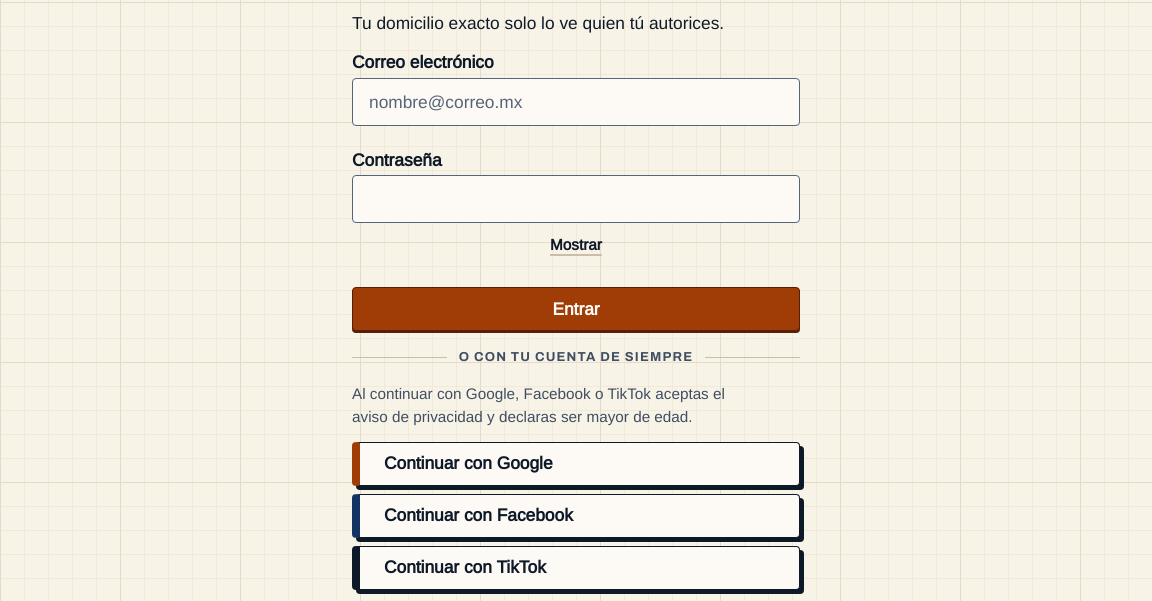
LoginPage › pide el correo si se envía vacío
(page scrolled)
What coordinates should you click on to do the following:
click the button "Entrar"
I would click on:
 (576, 309)
Its box is [352,287,800,331].
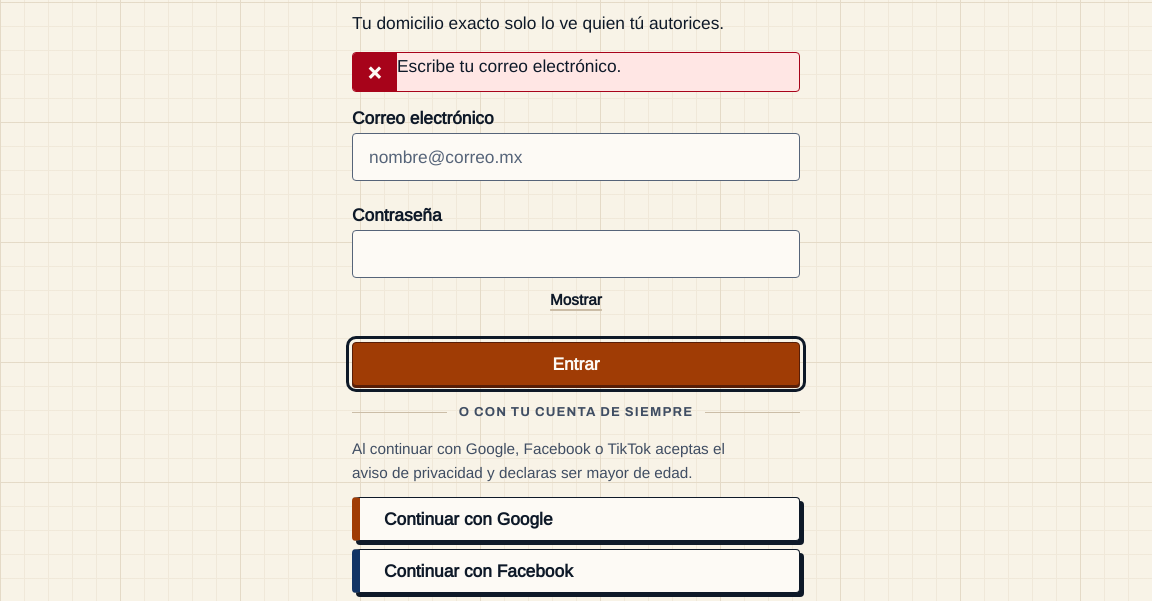
Now the message reads "Escribe tu correo electrónico.", box [397,56,621,76]
